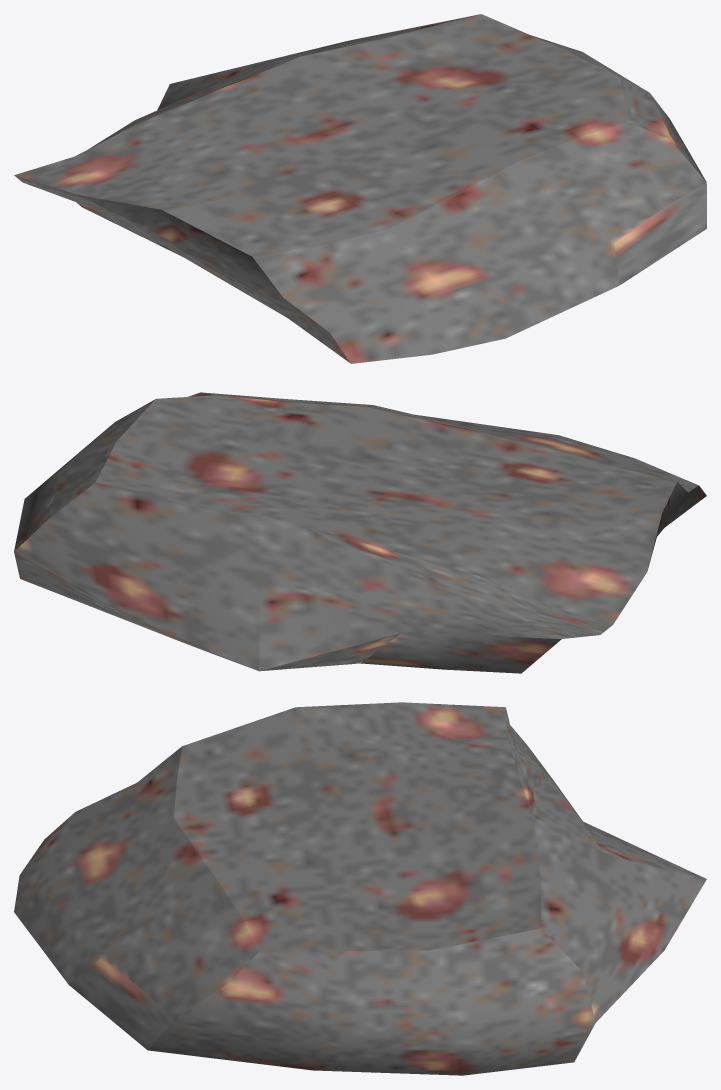
File: Flesh2.fbx
3 views of the same model, one above another, from view 1: azimuth 30°, elevation 25°; view 2: azimuth 150°, elevation 25°; view 3: azimuth 270°, elevation 25° (orthographic). The views are drawn at different scales.
Parts seen in each view (by area): view 1: Cube.007; view 2: Cube.007; view 3: Cube.007.
Boxes of the visible parts, <box> form: Cube.007: <box>14,14,706,363</box>; Cube.007: <box>14,392,706,673</box>; Cube.007: <box>14,702,706,1075</box>.
Size of the model in its own units: 742 by 128 by 710.
